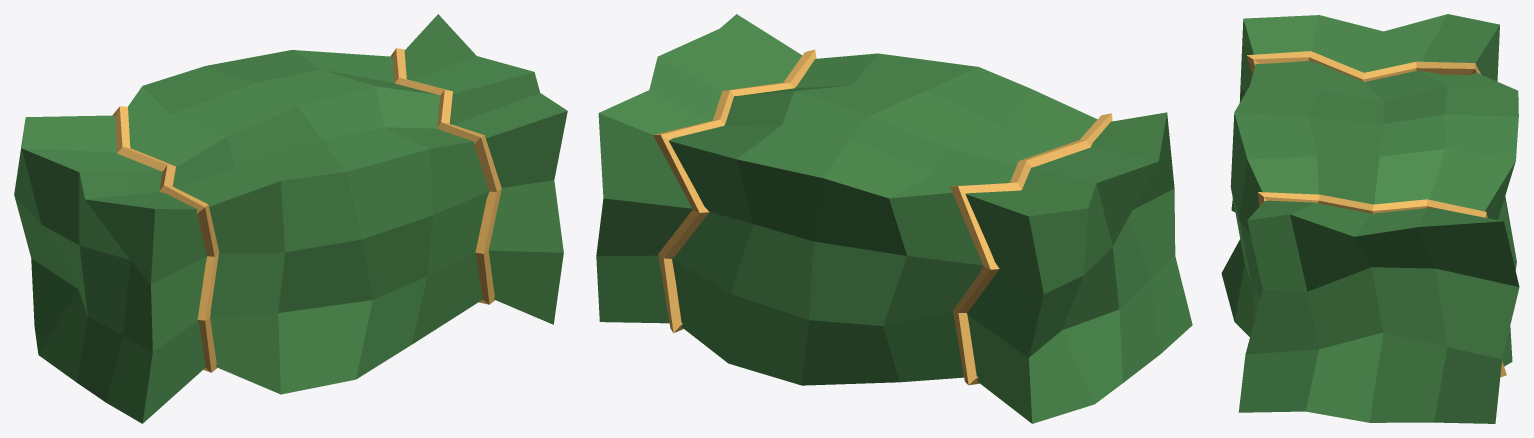
Rendered from strawpack_a_248.gltf.
The picture shows the model from 3 angles, left to right: view 1: azimuth 30°, elevation 25°; view 2: azimuth 150°, elevation 25°; view 3: azimuth 270°, elevation 25°; orthographic projection. The views are drawn at different scales.
Visible parts, largest first — view 1: strawpack_a005; view 2: strawpack_a005; view 3: strawpack_a005.
Part boxes in pixels (x1=…): strawpack_a005: x1=14, y1=14, x2=567, y2=423; strawpack_a005: x1=596, y1=14, x2=1192, y2=423; strawpack_a005: x1=1221, y1=14, x2=1519, y2=423.
Size of the model in its own units: 1.79 by 0.807 by 1.02.
Materials: 1 (1 with a texture image).
